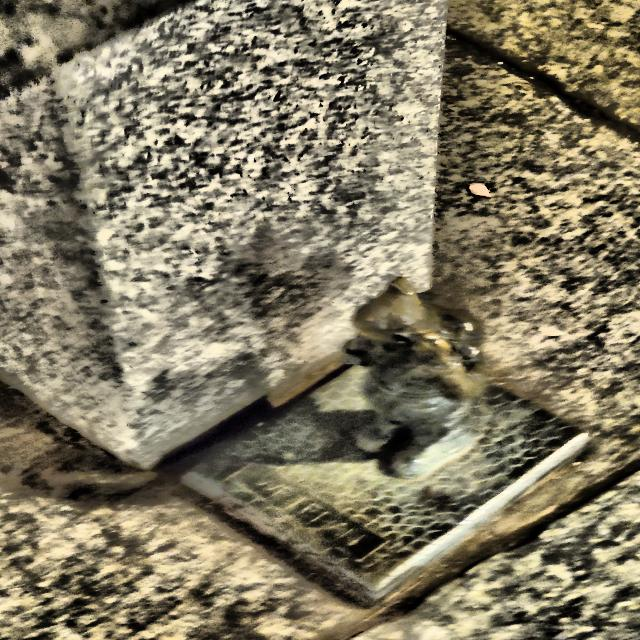Weteran: (343, 276, 487, 479)
